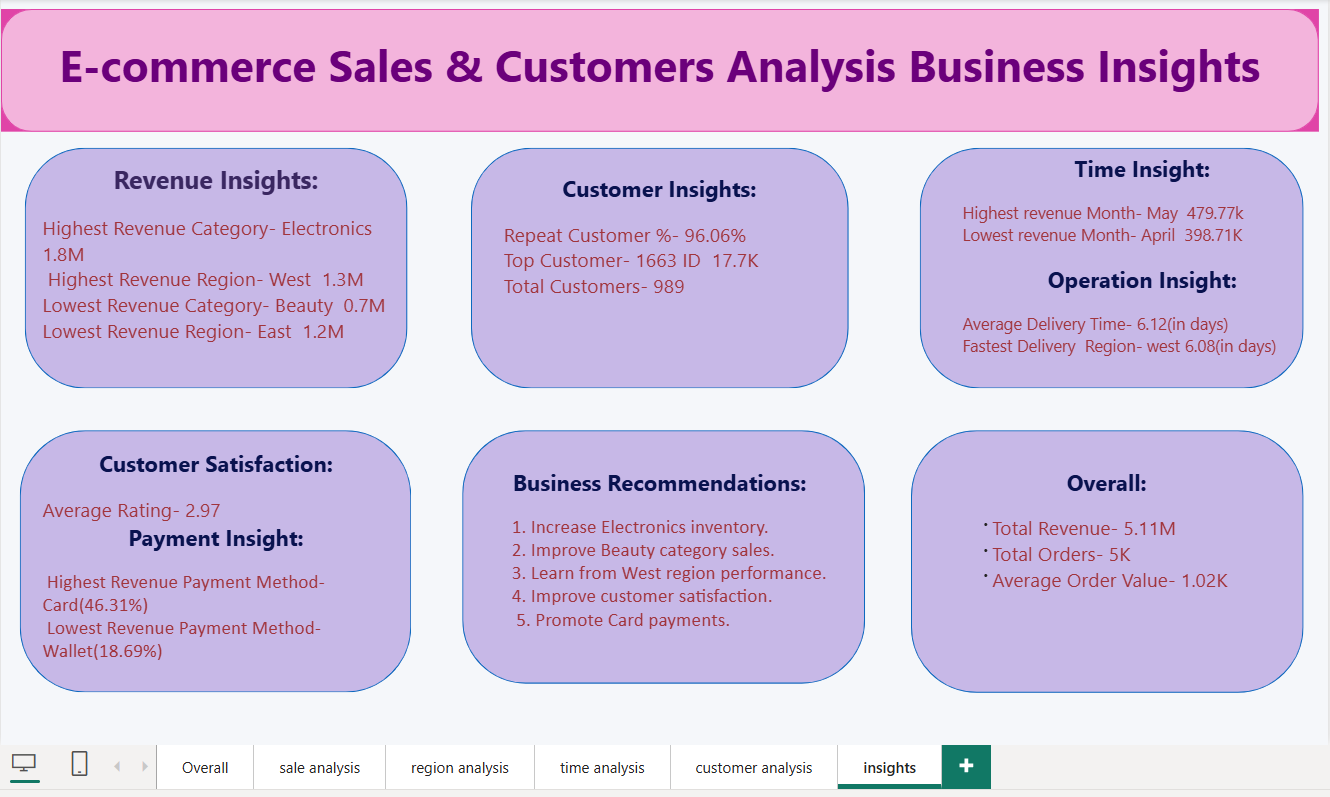

The page's visual inventory and layout, read from the dashboard file:
{"tool":"powerbi","page":{"name":"insights","canvas":[1280,720],"ordinal":5},"visuals":[{"type":"shape","box":[0,9.8,1271.7,118.6],"z":0},{"type":"textbox","box":[0,29.3,1271.7,99],"z":1000},{"type":"shape","box":[23.2,143.1,369.3,232.3],"z":2000},{"type":"textbox","box":[35.5,152.9,344.8,193.2],"z":3000},{"type":"shape","box":[453.7,143.1,364.4,232.3],"z":4000},{"type":"shape","box":[886.6,143.1,370.5,232.3],"z":5000},{"type":"textbox","box":[480.6,162.6,310.6,183.4],"z":6000},{"type":"textbox","box":[923.2,143.1,357.1,212.8],"z":7000},{"type":"shape","box":[18.3,415.8,377.9,253.1],"z":8000},{"type":"shape","box":[445.1,415.8,388.9,244.6],"z":9000},{"type":"textbox","box":[35,428.3,345,254.6],"z":10000},{"type":"textbox","box":[424.3,446.3,421.9,236],"z":11000},{"type":"textbox","box":[885.5,456,371.6,235.3],"z":12000},{"type":"shape","box":[878.3,416.2,378.8,253.4],"z":13000},{"type":"textbox","box":[897.6,446.4,339,231.6],"z":14000}]}

Visuals, with their boxes on the page's 1280x720 design canvas (x1, y1, x2, y2). These are canvas units, not pixel positions in the 1330x797 screenshot, which may show the page scaled, cropped or inside an application window:
shape: <bbox>0, 10, 1272, 128</bbox>
textbox: <bbox>0, 29, 1272, 128</bbox>
shape: <bbox>23, 143, 392, 375</bbox>
textbox: <bbox>36, 153, 380, 346</bbox>
shape: <bbox>454, 143, 818, 375</bbox>
shape: <bbox>887, 143, 1257, 375</bbox>
textbox: <bbox>481, 163, 791, 346</bbox>
textbox: <bbox>923, 143, 1280, 356</bbox>
shape: <bbox>18, 416, 396, 669</bbox>
shape: <bbox>445, 416, 834, 660</bbox>
textbox: <bbox>35, 428, 380, 683</bbox>
textbox: <bbox>424, 446, 846, 682</bbox>
textbox: <bbox>886, 456, 1257, 691</bbox>
shape: <bbox>878, 416, 1257, 670</bbox>
textbox: <bbox>898, 446, 1237, 678</bbox>
